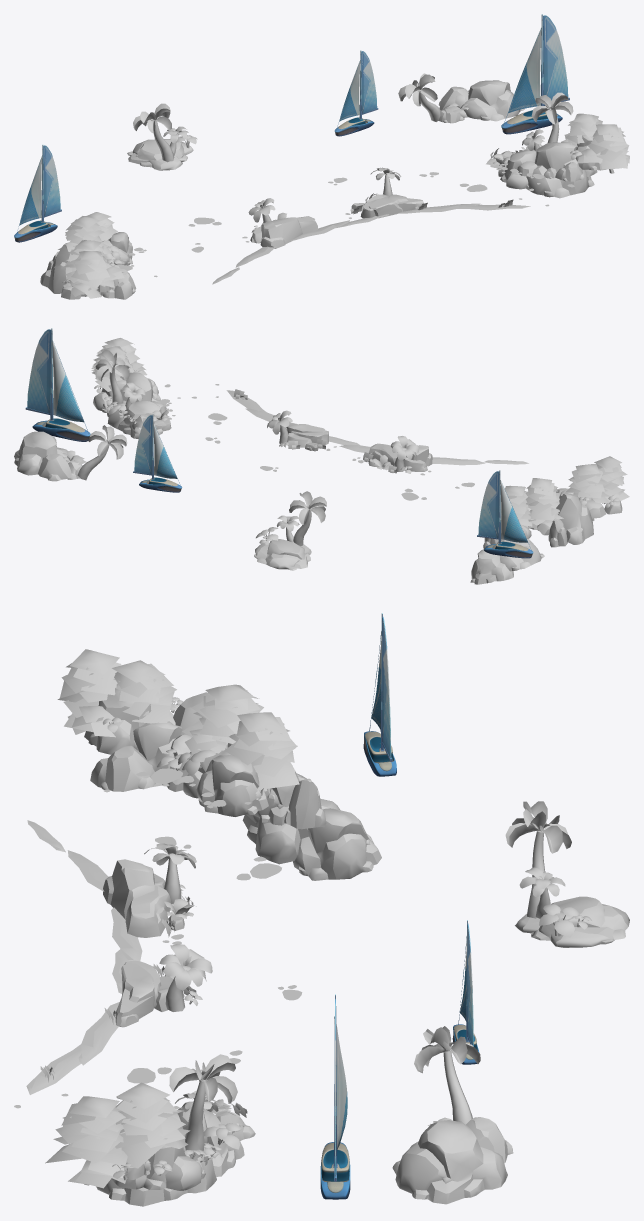
File: pref_Area_Bottom_Beach_Small_beta_01_lv3.fbx
3 renders of one model, top to bottom at view 1: azimuth 30°, elevation 25°; view 2: azimuth 150°, elevation 25°; view 3: azimuth 270°, elevation 25°, orthographic. The views are drawn at different scales.
Parts seen in each view (by area): view 1: pref_sm_beach_sailboat02_lv3 (×3), pref_sm_beach_techrock01_lv3 (×4), pref_sm_beach_techrock03_lv3 (×3), pref_sm_beach_techgtree06a_lv3 (3), pref_sm_beach_techgtree06a_lv3, pref_sm_beach_techctree01_lv3 (3), pref_sm_beach_techblockstone03_lv3, pref_sm_beach_techblockstone01_lv3, pref_sm_beach_techctree01_lv3 (2), pref_sm_beach_techctree01_lv3 (1), pref_sm_beach_techgtree06a_lv3 (2), pref_sm_beach_techgtree06a_lv3 (4) (+5 smaller); view 2: pref_sm_beach_sailboat02_lv3 (×3), pref_sm_beach_techrock01_lv3 (×4), pref_sm_beach_techrock03_lv3 (×2), pref_sm_beach_techgtree06a_lv3 (1), pref_sm_beach_techgtree06a_lv3 (2), pref_sm_beach_techrock01_lv3 (9), pref_sm_beach_techctree01_lv3 (2), pref_sm_beach_techctree01_lv3 (3), pref_sm_beach_techctree01_lv3 (1), pref_sm_beach_techgtree06a_lv3, pref_sm_beach_techgtree06a_lv3 (5), pref_sm_beach_techrock01_lv3 (7) (+8 smaller); view 3: pref_sm_beach_techrock01_lv3 (×5), pref_sm_beach_sailboat02_lv3 (×3), pref_sm_beach_techrock01_lv3 (9), pref_sm_beach_techgtree06a_lv3 (3), pref_sm_beach_techgtree06a_lv3 (4), pref_sm_beach_techgtree06a_lv3 (5), pref_sm_beach_techrock03_lv3 (×2), pref_sm_beach_techrock01_lv3 (4), pref_sm_beach_techgtree06a_lv3, pref_sm_beach_techgtree06a_lv3 (1), pref_sm_beach_techctree01_lv3 (1), pref_sm_beach_techgtree06a_lv3 (2) (+18 smaller).
Part boxes in pixels (x1=…): pref_sm_beach_sailboat02_lv3 (×3): x1=14, y1=14, x2=569, y2=242; pref_sm_beach_techrock01_lv3 (×4): x1=127, y1=80, x2=594, y2=198; pref_sm_beach_techrock03_lv3 (×3): x1=40, y1=86, x2=468, y2=299; pref_sm_beach_techgtree06a_lv3 (3): x1=587, y1=124, x2=629, y2=173; pref_sm_beach_techgtree06a_lv3: x1=65, y1=251, x2=115, y2=288; pref_sm_beach_techctree01_lv3 (3): x1=133, y1=103, x2=174, y2=162; pref_sm_beach_techblockstone03_lv3: x1=260, y1=218, x2=302, y2=248; pref_sm_beach_techblockstone01_lv3: x1=360, y1=194, x2=423, y2=218; pref_sm_beach_techctree01_lv3 (2): x1=398, y1=73, x2=440, y2=121; pref_sm_beach_techctree01_lv3 (1): x1=531, y1=92, x2=573, y2=142; pref_sm_beach_techgtree06a_lv3 (2): x1=58, y1=216, x2=104, y2=249; pref_sm_beach_techgtree06a_lv3 (4): x1=564, y1=113, x2=602, y2=147; pref_sm_beach_sailboat02_lv3 (×3): x1=25, y1=328, x2=533, y2=558; pref_sm_beach_techrock01_lv3 (×4): x1=14, y1=372, x2=311, y2=570; pref_sm_beach_techrock03_lv3 (×2): x1=38, y1=454, x2=593, y2=544; pref_sm_beach_techgtree06a_lv3 (1): x1=565, y1=464, x2=612, y2=503; pref_sm_beach_techgtree06a_lv3 (2): x1=525, y1=478, x2=559, y2=520; pref_sm_beach_techrock01_lv3 (9): x1=470, y1=549, x2=513, y2=584; pref_sm_beach_techctree01_lv3 (2): x1=77, y1=425, x2=127, y2=480; pref_sm_beach_techctree01_lv3 (3): x1=289, y1=491, x2=326, y2=545; pref_sm_beach_techctree01_lv3 (1): x1=95, y1=350, x2=129, y2=406; pref_sm_beach_techgtree06a_lv3: x1=594, y1=456, x2=627, y2=503; pref_sm_beach_techgtree06a_lv3 (5): x1=500, y1=485, x2=533, y2=526; pref_sm_beach_techrock01_lv3 (7): x1=497, y1=539, x2=544, y2=571; pref_sm_beach_techrock01_lv3 (×5): x1=96, y1=721, x2=629, y2=1206; pref_sm_beach_sailboat02_lv3 (×3): x1=320, y1=613, x2=479, y2=1199; pref_sm_beach_techrock01_lv3 (9): x1=293, y1=808, x2=381, y2=880; pref_sm_beach_techgtree06a_lv3 (3): x1=45, y1=1096, x2=127, y2=1185; pref_sm_beach_techgtree06a_lv3 (4): x1=115, y1=1082, x2=190, y2=1175; pref_sm_beach_techgtree06a_lv3 (5): x1=224, y1=712, x2=299, y2=789; pref_sm_beach_techrock03_lv3 (×2): x1=90, y1=745, x2=513, y2=1163; pref_sm_beach_techrock01_lv3 (4): x1=196, y1=755, x2=268, y2=816; pref_sm_beach_techgtree06a_lv3: x1=57, y1=649, x2=121, y2=732; pref_sm_beach_techgtree06a_lv3 (1): x1=112, y1=660, x2=176, y2=724; pref_sm_beach_techctree01_lv3 (1): x1=169, y1=1054, x2=237, y2=1160; pref_sm_beach_techgtree06a_lv3 (2): x1=182, y1=684, x2=263, y2=747.
Bounding box in the file's own units: 55.83 × 14.51 × 29.64.
